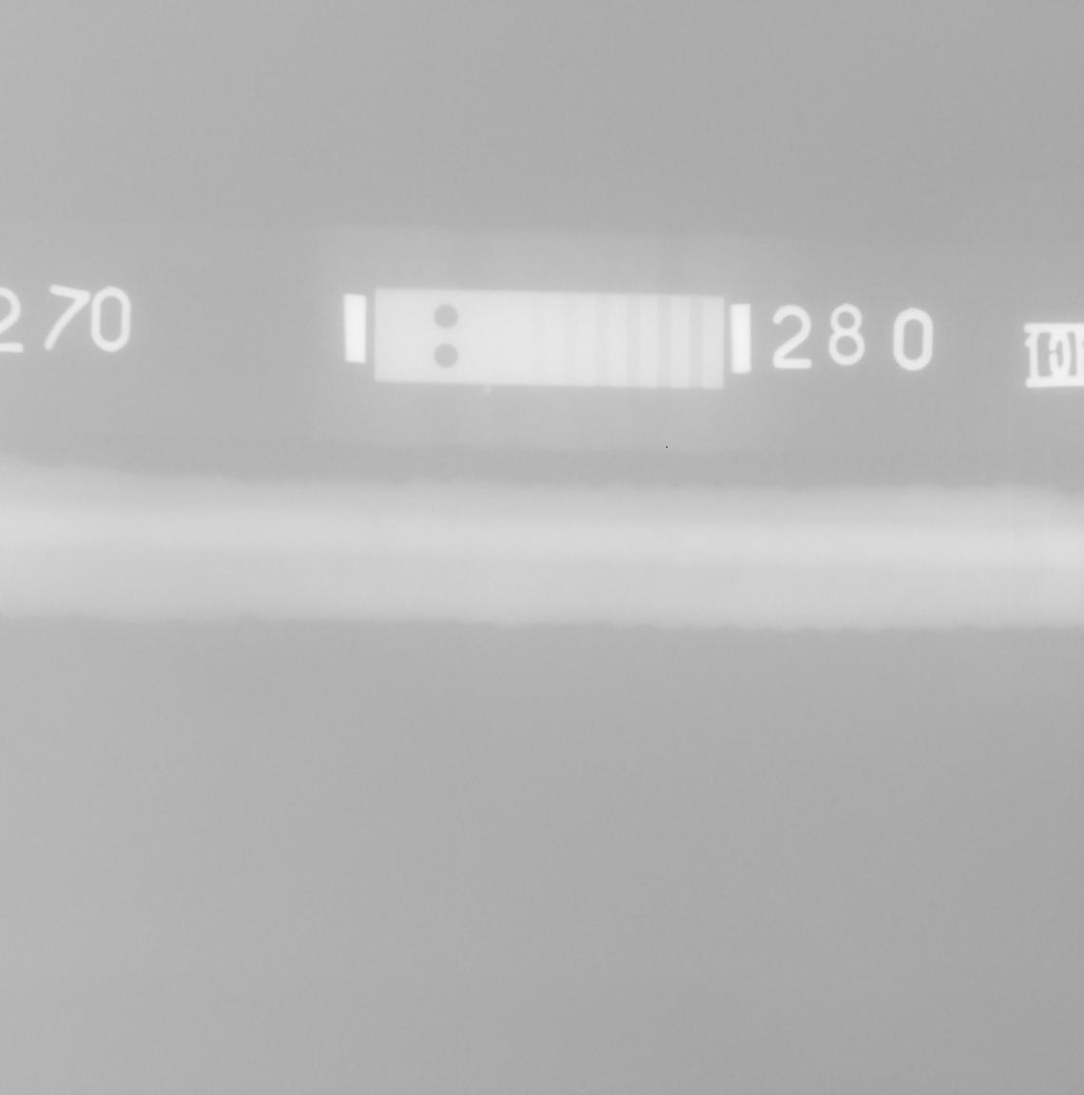Reference Standard 2: (374, 287, 724, 390)
